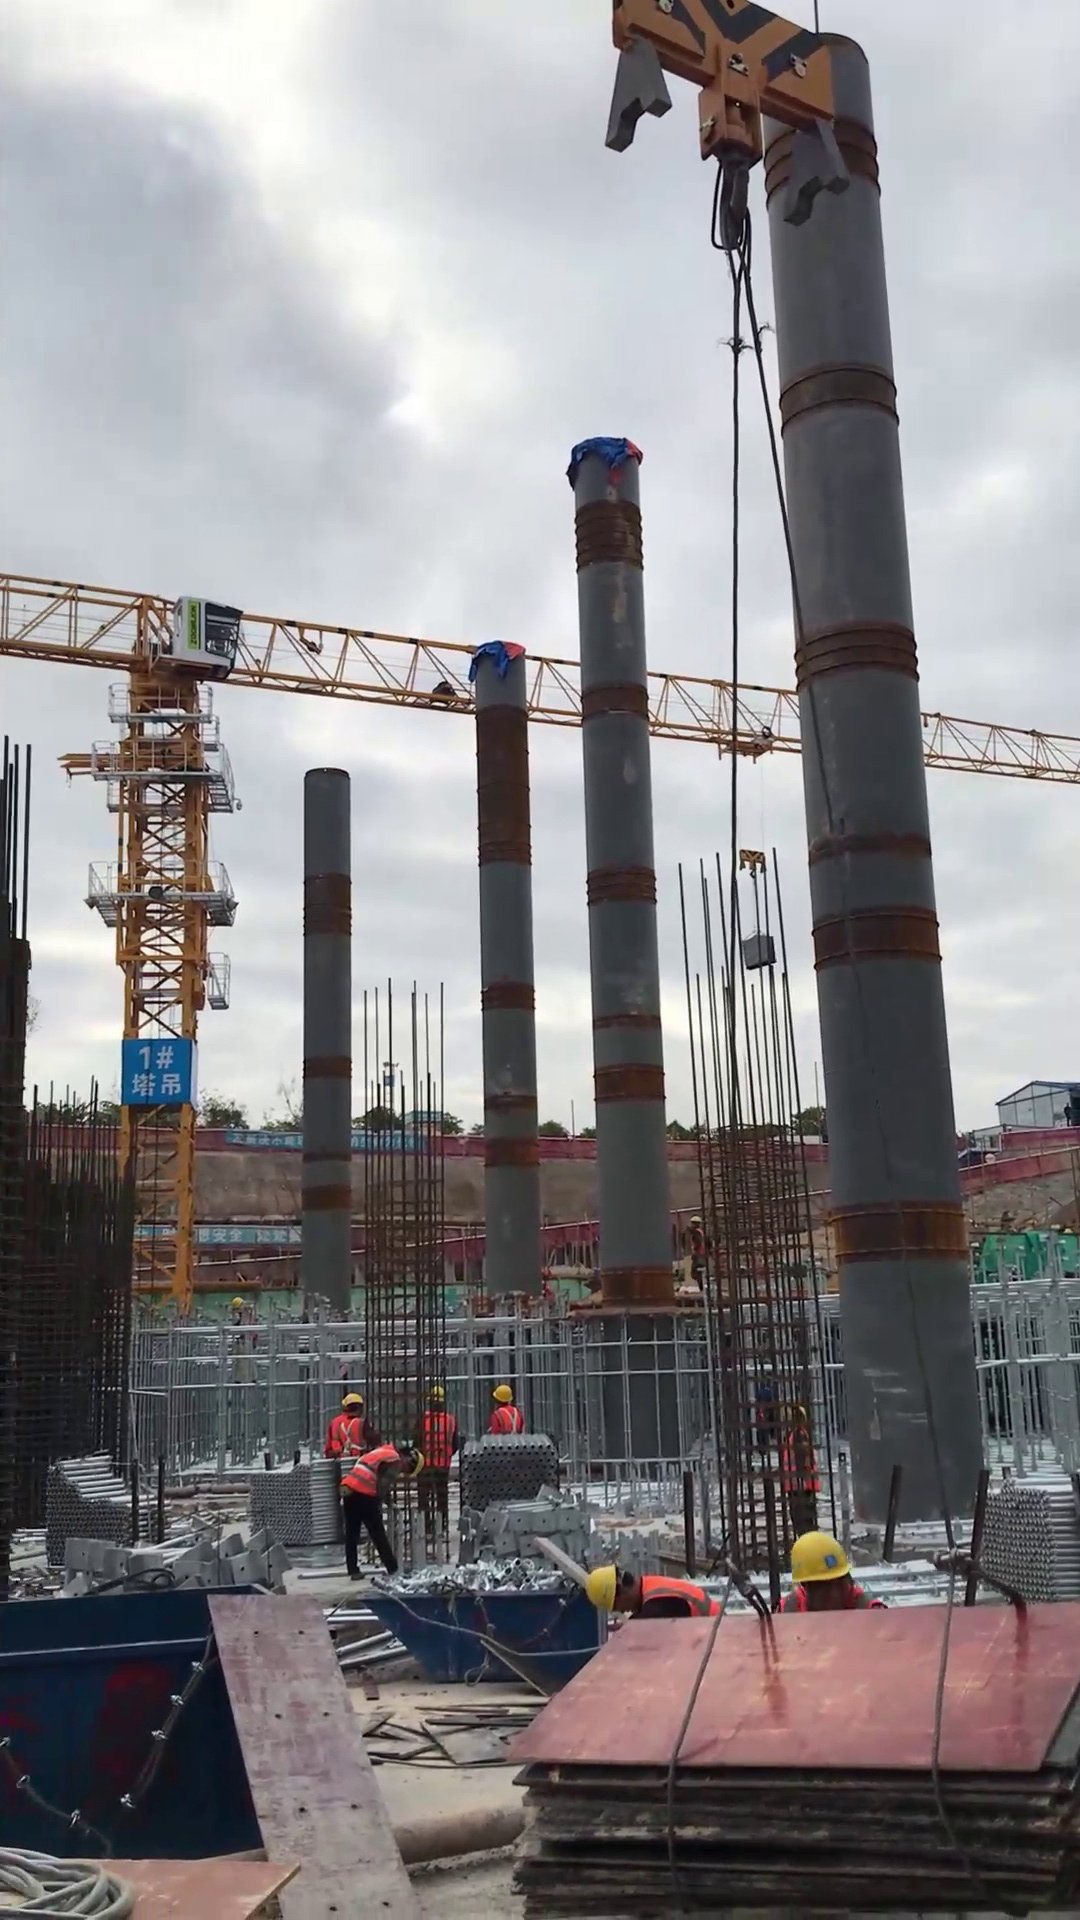board: (492, 1591, 1080, 1914)
helmet: (785, 1527, 861, 1585), (584, 1560, 619, 1623), (407, 1446, 428, 1479), (489, 1384, 519, 1407), (337, 1392, 364, 1410)
hook: (735, 839, 773, 887)
hopper: (1, 1577, 273, 1869), (376, 1579, 606, 1691)
person: (334, 1435, 433, 1587), (582, 1555, 726, 1648), (765, 1527, 898, 1628), (323, 1391, 383, 1463), (481, 1382, 534, 1446)
scaffold: (42, 1446, 168, 1565), (976, 1463, 1080, 1598), (243, 1453, 347, 1556), (455, 1432, 561, 1508)
slogan: (188, 1223, 304, 1248), (224, 1127, 308, 1152)
vest: (637, 1570, 719, 1624), (773, 1587, 895, 1617), (340, 1442, 399, 1505), (327, 1414, 373, 1459), (486, 1407, 527, 1437)
